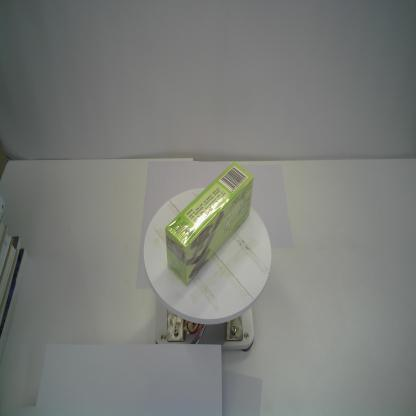Instant Drink: (163, 161, 255, 287)
